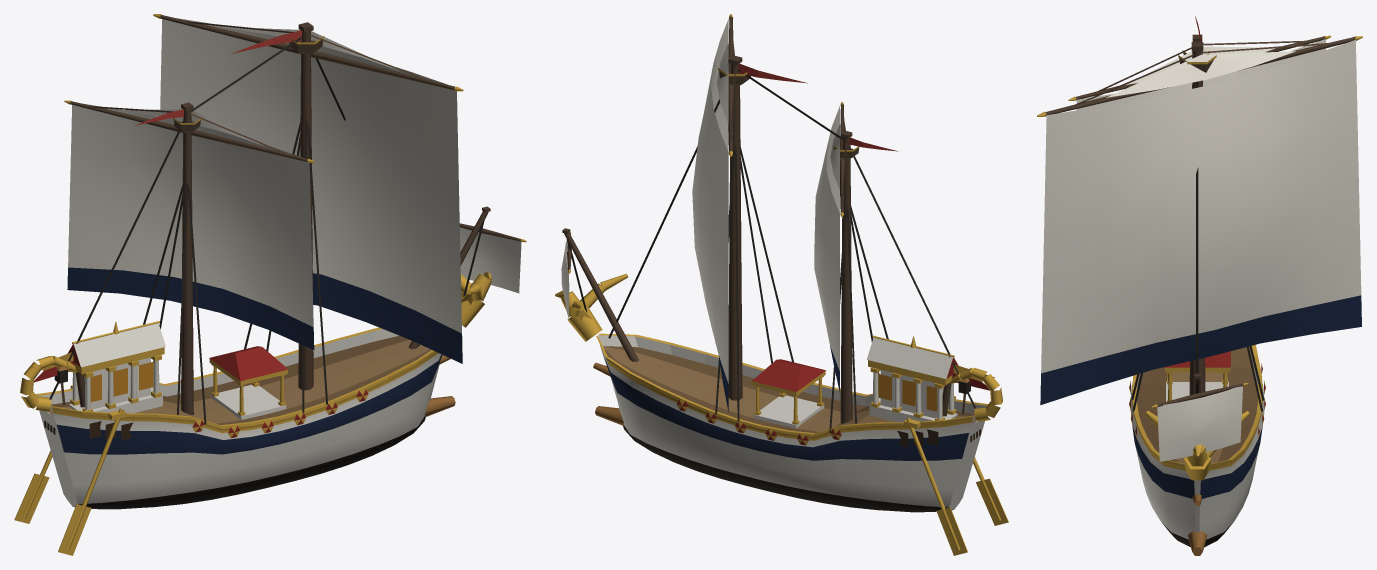
File: titan_usd1.glb
The picture shows the model from 3 angles, left to right: view 1: azimuth 30°, elevation 25°; view 2: azimuth 150°, elevation 25°; view 3: azimuth 270°, elevation 25°; orthographic projection. The views are drawn at different scales.
Parts seen in each view (by area): view 1: sail_main, sail_extra, hull, deck, mast, rigging, yards, stern_windows, flag; view 2: hull, deck, sail_main, mast, rigging, sail_extra, stern_windows, yards, flag; view 3: sail_main, hull, sail_extra, yards, deck, rigging, mast.
Part boxes in pixels (x1,y1,x2,y2): sail_main: (160,18,521,363); sail_extra: (67,26,398,349); hull: (20,272,491,509); deck: (14,321,288,555); mast: (73,22,490,414); rigging: (49,36,484,424); yards: (64,14,526,242); stern_windows: (44,361,153,440); flag: (32,30,302,382); hull: (555,273,1002,512); deck: (752,335,1008,555); sail_main: (561,19,728,411); mast: (562,55,953,423); rigging: (566,69,976,432); sail_extra: (717,42,839,392); stern_windows: (878,374,980,447); yards: (567,14,846,273); flag: (738,63,994,390); sail_main: (1040,40,1361,461); hull: (1129,344,1265,555); sail_extra: (1076,39,1325,110); yards: (1037,35,1362,407); deck: (1164,351,1230,401); rigging: (1131,81,1264,411); mast: (1178,34,1216,399).
Bounding box in the file's own units: 25.55 × 22.81 × 14.19.
